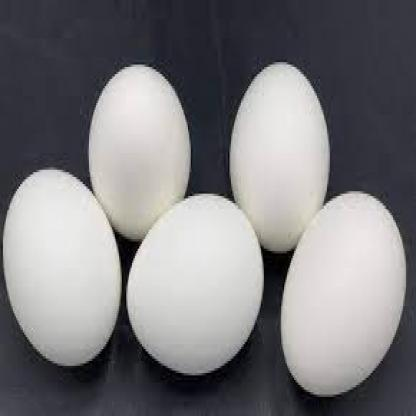egg: (279, 192, 407, 398), (126, 193, 264, 378), (3, 167, 122, 369), (228, 61, 330, 255), (88, 65, 192, 244)
